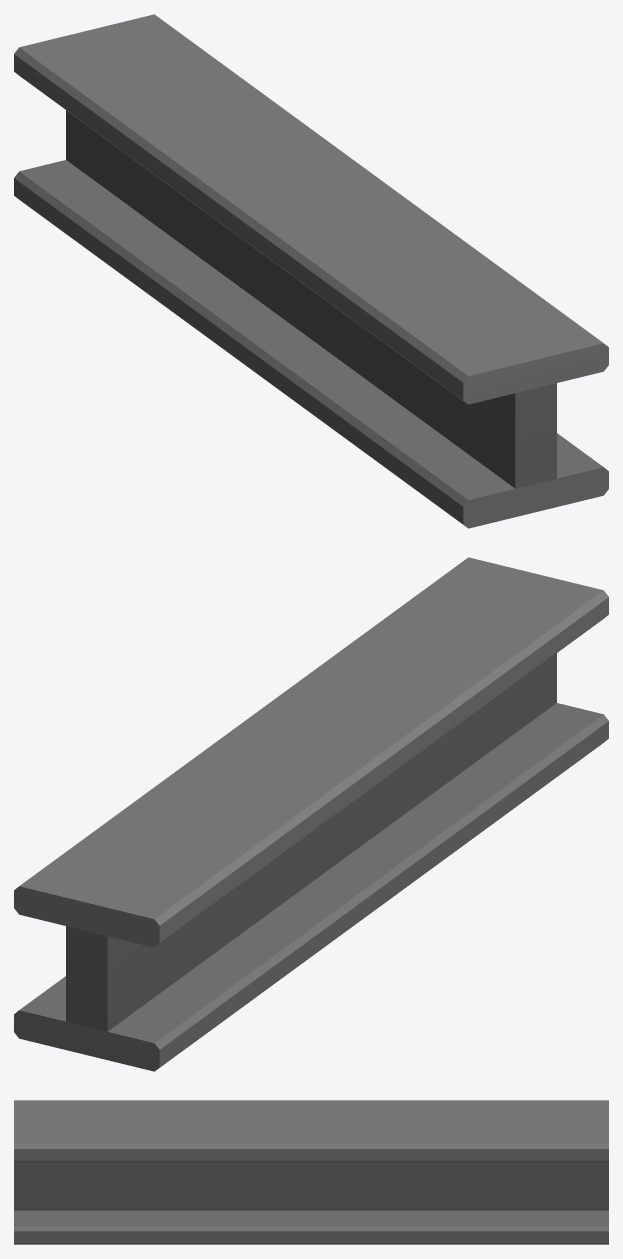
The model's file is Rail_C_2_3.fbx.
3 renders of one model, top to bottom at view 1: azimuth 30°, elevation 25°; view 2: azimuth 150°, elevation 25°; view 3: azimuth 270°, elevation 25°, orthographic. The views are drawn at different scales.
Visible parts, largest first — view 1: Rail_C_2_3; view 2: Rail_C_2_3; view 3: Rail_C_2_3.
Part boxes in pixels (x1,y1,x2,y2): Rail_C_2_3: (14, 14, 608, 528); Rail_C_2_3: (14, 557, 608, 1071); Rail_C_2_3: (14, 1100, 608, 1244).
Size of the model in its own units: 37.43 by 37.43 by 200.
